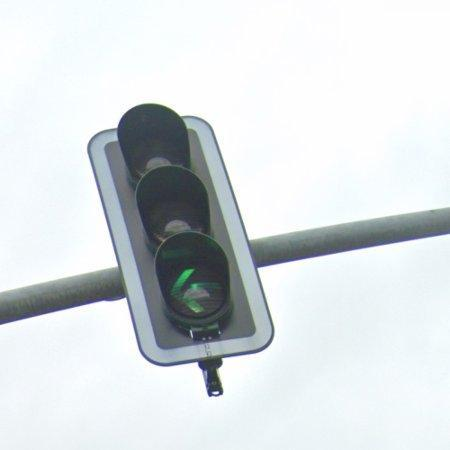traffic lights: (90, 102, 274, 369)
